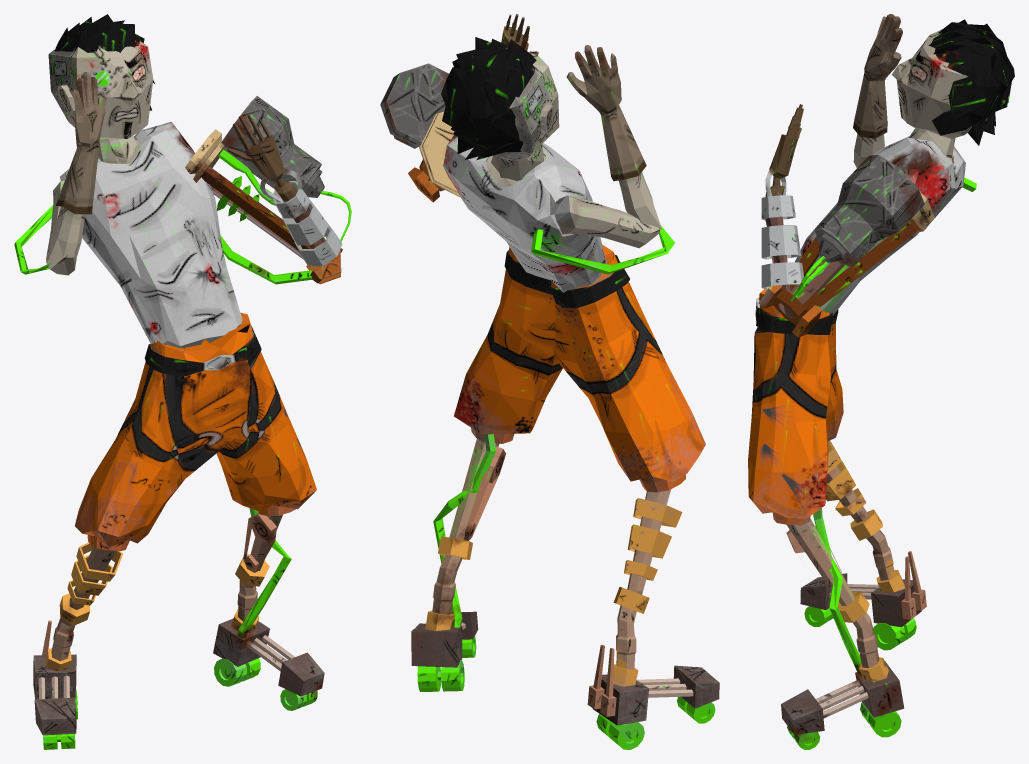
File: CyborgFINALAnimation_000016.obj
3 views of the same model, side by side, from view 1: azimuth 30°, elevation 25°; view 2: azimuth 150°, elevation 25°; view 3: azimuth 270°, elevation 25° (orthographic). The views are drawn at different scales.
Visible parts, largest first — view 1: CyborgMesh_Cube.002; view 2: CyborgMesh_Cube.002; view 3: CyborgMesh_Cube.002.
Part boxes in pixels (box(x1,y1,x2,y2)): CyborgMesh_Cube.002: box(14, 14, 351, 749); CyborgMesh_Cube.002: box(380, 14, 719, 749); CyborgMesh_Cube.002: box(748, 14, 1014, 749).
Bounding box in the file's own units: 4.29 × 8.92 × 3.26.
